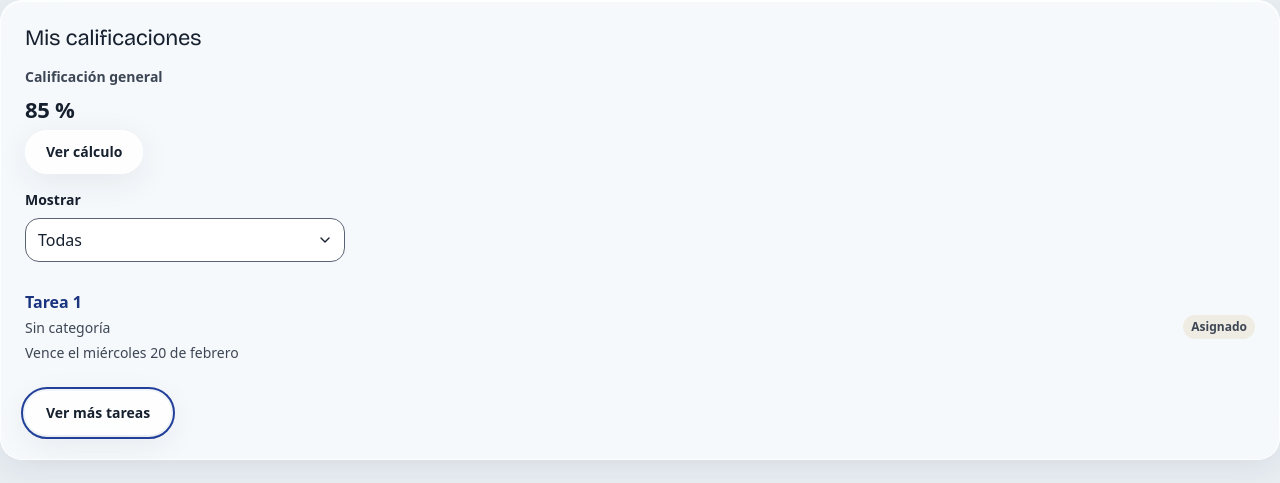
«Ver más tareas» con una página vacía (el equivalente de T-06) › CAL-T-221: página vacía con siguienteCursor nulo (última página): el botón desaparece, las filas siguen, el foco va al h2 (no a <body> ni a la raíz) y sin aviso
Expected: the link "Tarea 1" is shown, [25,291,82,313]
Click the button "Ver más tareas": (98, 413) [25,391,171,435]
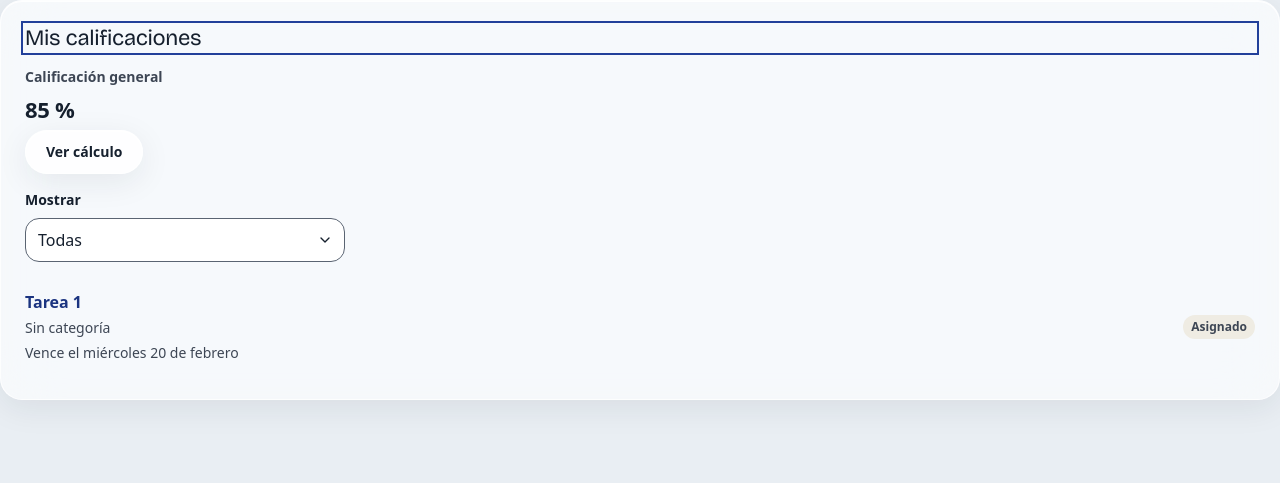
Now the button "Ver más tareas" is gone
